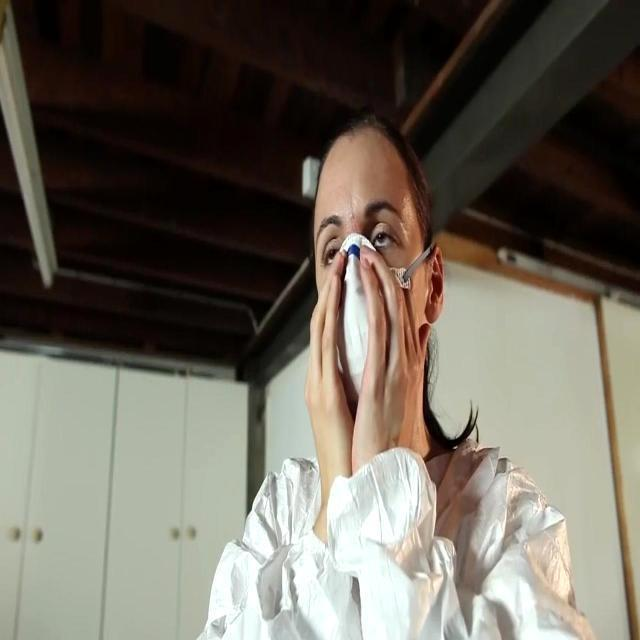no_apron: (346, 239, 433, 477), (306, 260, 345, 478)
no_gloves: (316, 116, 414, 197)
